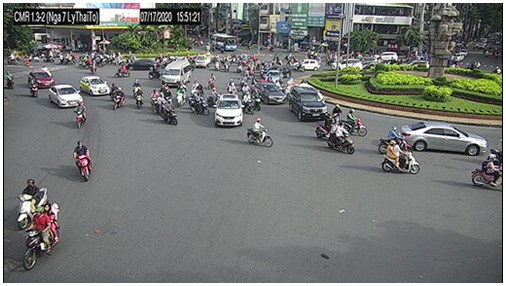xe_buyt: (209, 34, 238, 52)
xe_hoi: (401, 122, 487, 156), (289, 86, 326, 122), (216, 93, 243, 127), (46, 84, 83, 107), (253, 82, 285, 104), (81, 76, 109, 96), (29, 71, 54, 89), (331, 56, 362, 70), (127, 58, 159, 70), (260, 66, 291, 78), (291, 58, 318, 70), (361, 56, 380, 69), (265, 70, 284, 82)
xe_khach: (162, 59, 190, 85)
xe_may: (23, 203, 59, 269), (18, 180, 50, 231), (381, 139, 420, 176), (473, 154, 502, 190), (378, 126, 412, 155), (327, 121, 355, 156), (248, 117, 272, 149), (76, 141, 95, 181), (342, 109, 368, 137), (189, 92, 209, 116), (162, 98, 177, 129), (73, 101, 87, 128), (157, 91, 169, 117), (114, 86, 126, 110), (29, 76, 40, 99), (241, 92, 253, 113), (176, 86, 187, 108), (134, 86, 143, 111), (332, 105, 343, 124), (150, 88, 158, 113), (252, 89, 261, 110), (7, 69, 14, 89), (7, 52, 17, 64), (228, 79, 236, 94), (207, 79, 215, 93), (212, 56, 220, 70), (133, 77, 141, 90), (223, 59, 231, 71), (91, 59, 97, 70), (236, 60, 241, 73)
